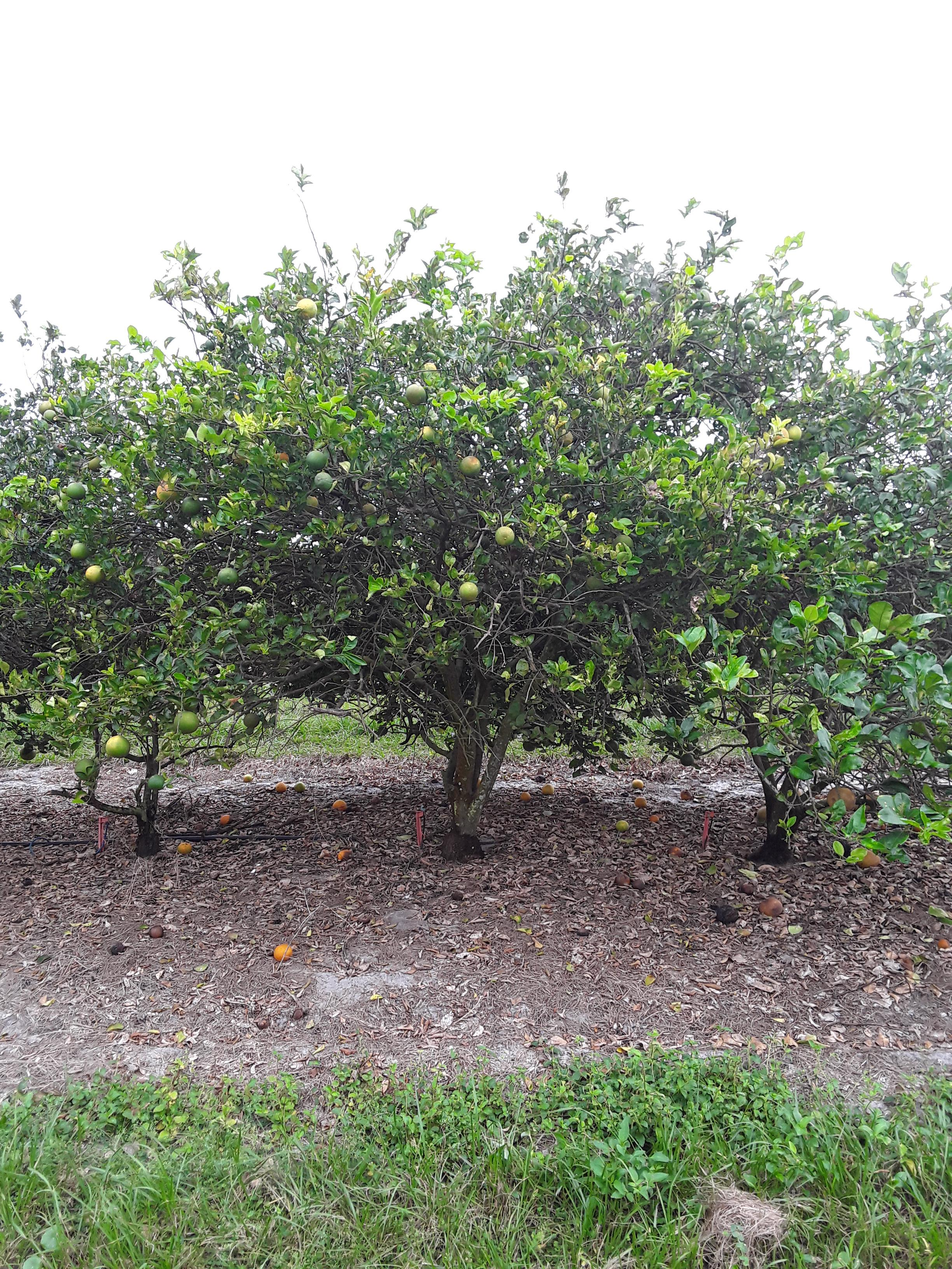fruit_on_ground: (824, 783, 856, 811), (70, 754, 103, 781), (490, 521, 517, 548), (171, 710, 201, 734), (102, 733, 132, 757), (292, 296, 320, 321), (403, 382, 428, 410), (413, 422, 441, 446), (456, 453, 483, 477), (455, 579, 481, 603), (304, 447, 328, 471), (178, 494, 204, 516), (611, 531, 635, 554), (65, 539, 90, 561), (766, 425, 789, 448), (311, 470, 336, 491), (84, 562, 105, 587), (17, 740, 39, 763), (63, 481, 87, 502), (217, 566, 237, 586), (786, 422, 804, 442), (677, 751, 696, 769), (241, 710, 261, 727), (147, 772, 167, 789), (87, 455, 107, 472), (603, 737, 623, 753), (521, 737, 538, 753), (691, 274, 707, 289), (41, 408, 57, 422), (743, 318, 757, 332), (38, 402, 54, 414)
fruit_on_tree: (852, 846, 882, 869), (759, 897, 782, 917), (272, 943, 294, 962), (614, 869, 632, 887), (936, 936, 952, 951), (331, 799, 348, 813), (614, 819, 630, 833), (630, 777, 645, 791), (679, 787, 693, 801), (667, 845, 682, 858), (740, 882, 754, 895), (518, 790, 533, 802), (275, 780, 288, 793), (293, 780, 306, 793), (540, 783, 554, 795), (242, 771, 254, 784), (634, 795, 646, 807), (579, 794, 591, 804), (648, 814, 660, 823)
